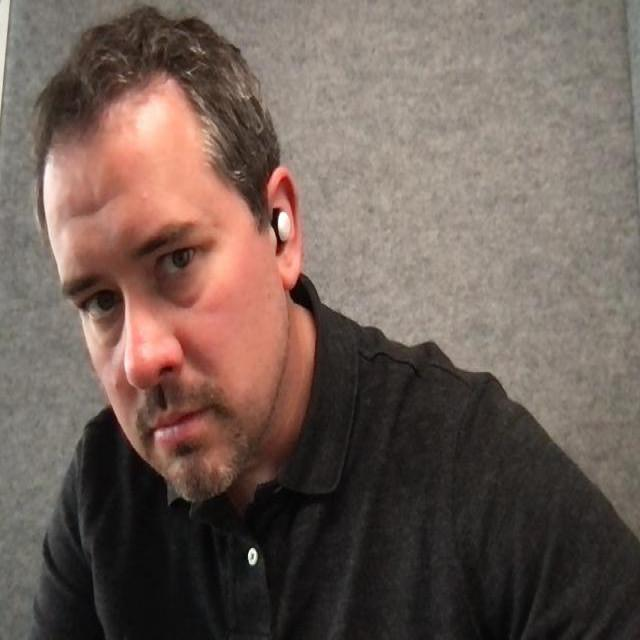face: (28, 12, 305, 511)
